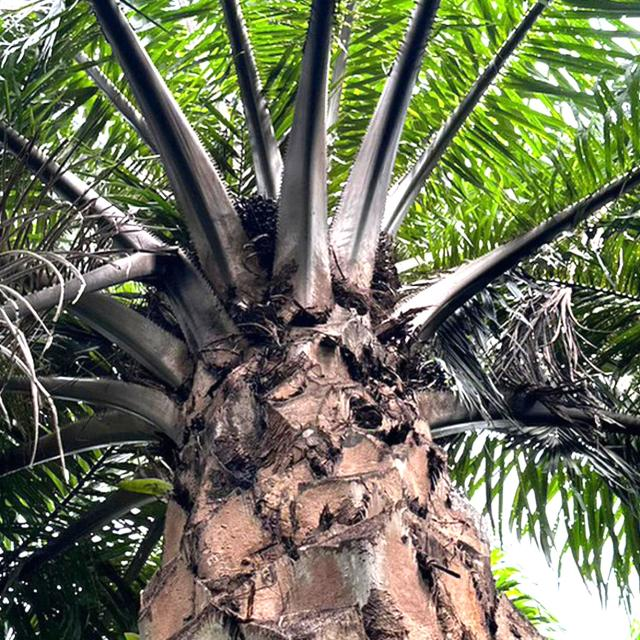almost: (229, 191, 291, 278)
